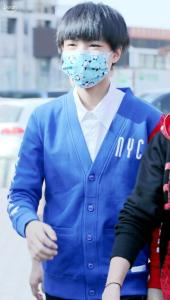face_mask: (60, 37, 108, 88)
